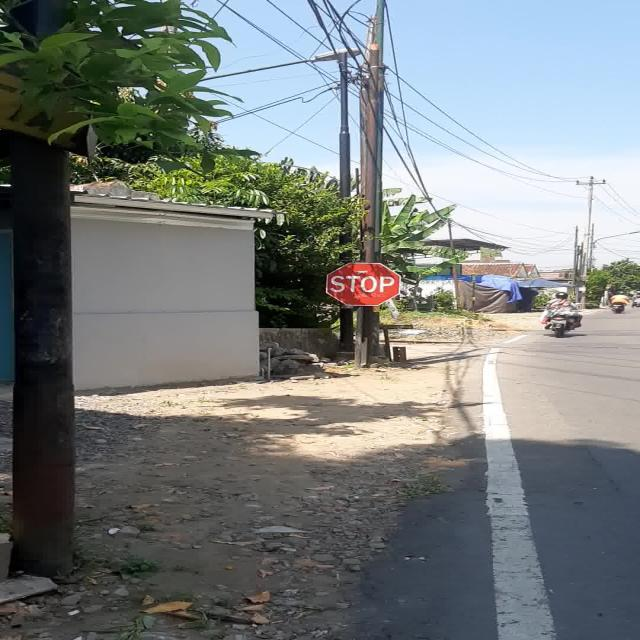Berhenti: (326, 262, 401, 306)
